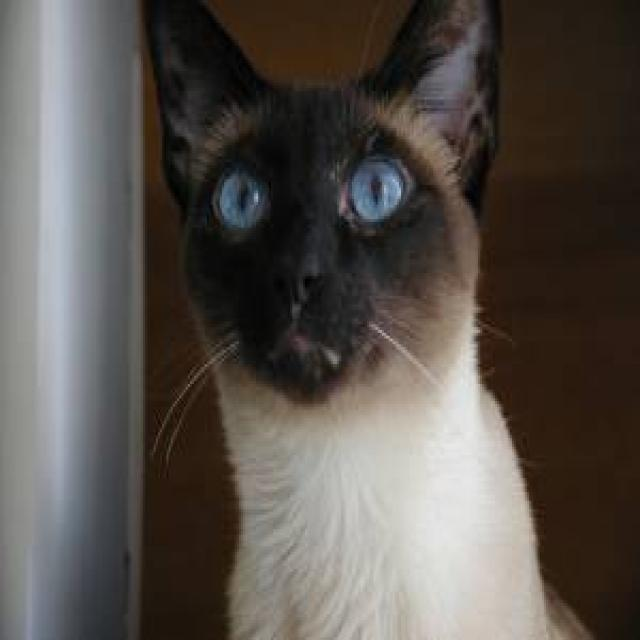Siamese: (136, 0, 507, 420)
